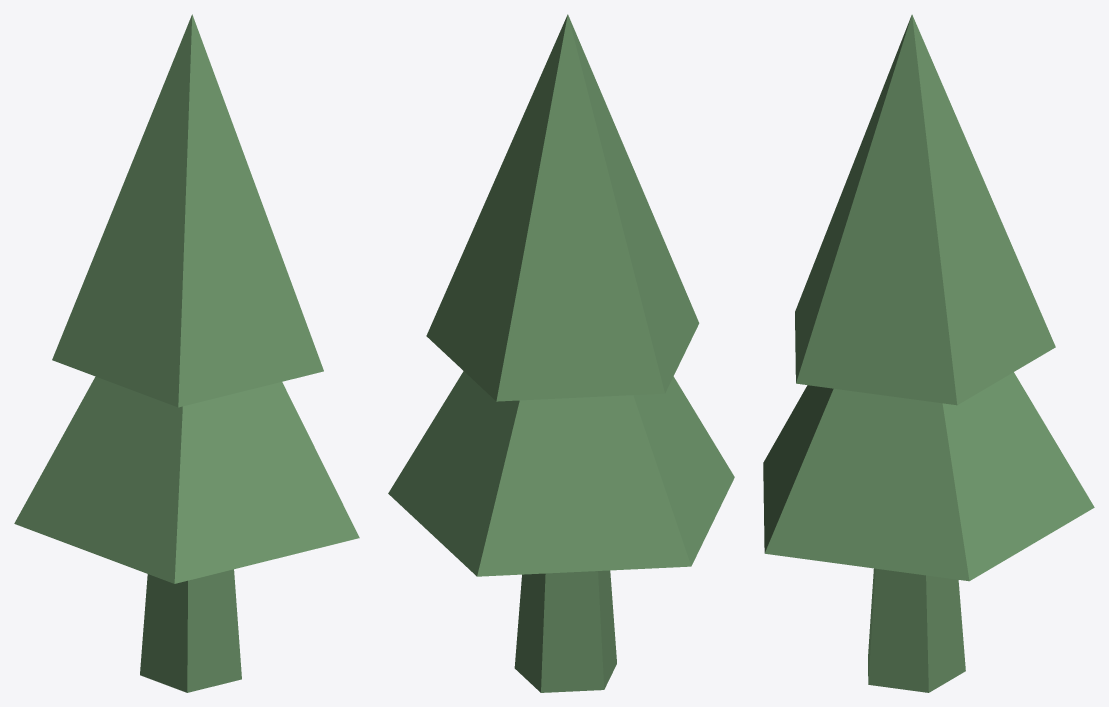
Rendered from tree_single_A.gltf.
3 renders of one model, left to right at view 1: azimuth 30°, elevation 25°; view 2: azimuth 150°, elevation 25°; view 3: azimuth 270°, elevation 25°, orthographic.
Parts seen in each view (by area): view 1: tree_single_A; view 2: tree_single_A; view 3: tree_single_A.
Part boxes in pixels (bbox=[...]): tree_single_A: bbox=[14, 14, 359, 692]; tree_single_A: bbox=[388, 14, 734, 692]; tree_single_A: bbox=[763, 14, 1094, 692].
Size of the model in its own units: 0.574 by 1.2 by 0.547.
